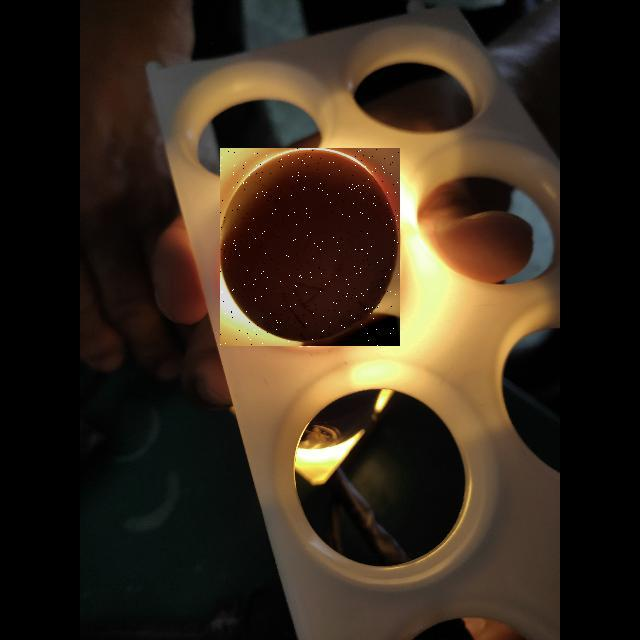Fertile: (220, 148, 400, 346)
